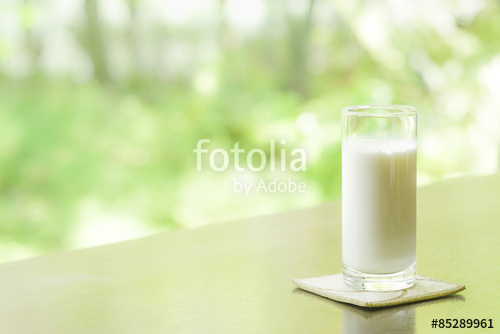glass of milk: (339, 102, 419, 301)
